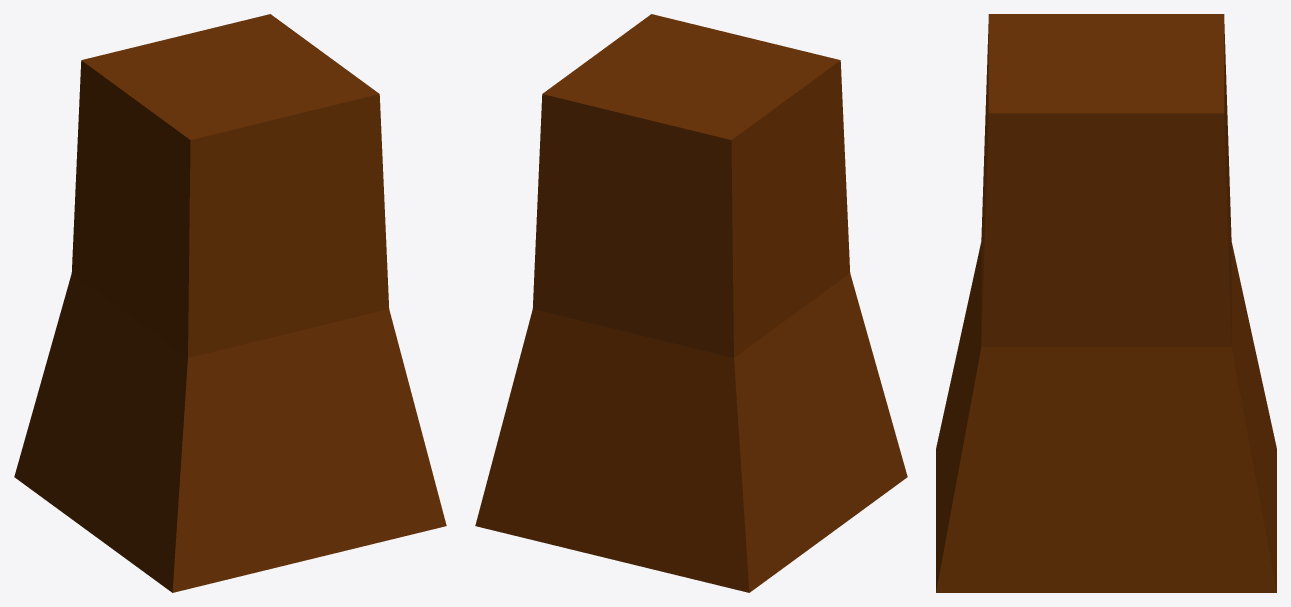
Rendered from tree_stump.fbx.
The picture shows the model from 3 angles, left to right: view 1: azimuth 30°, elevation 25°; view 2: azimuth 150°, elevation 25°; view 3: azimuth 270°, elevation 25°; orthographic projection. The views are drawn at different scales.
Parts seen in each view (by area): view 1: Cube; view 2: Cube; view 3: Cube.
Boxes of the visible parts, x1,y1,x2,y2 form: Cube: [14, 14, 446, 592]; Cube: [475, 14, 907, 592]; Cube: [936, 14, 1276, 592].
Size of the model in its own units: 273 by 403 by 273.
